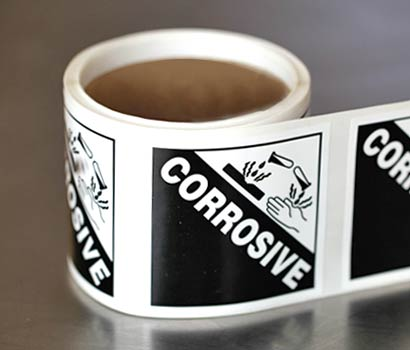Corrosive: (147, 139, 314, 293)
